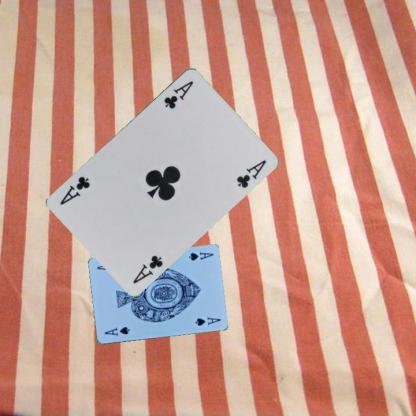Ac: (130, 252, 165, 284), (160, 78, 194, 110)
As: (102, 324, 130, 338), (186, 250, 214, 262)
